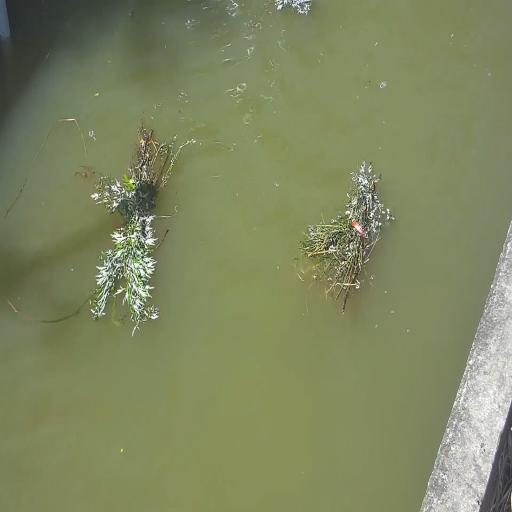twig: (86, 115, 192, 335), (297, 159, 391, 316), (275, 0, 312, 18)
